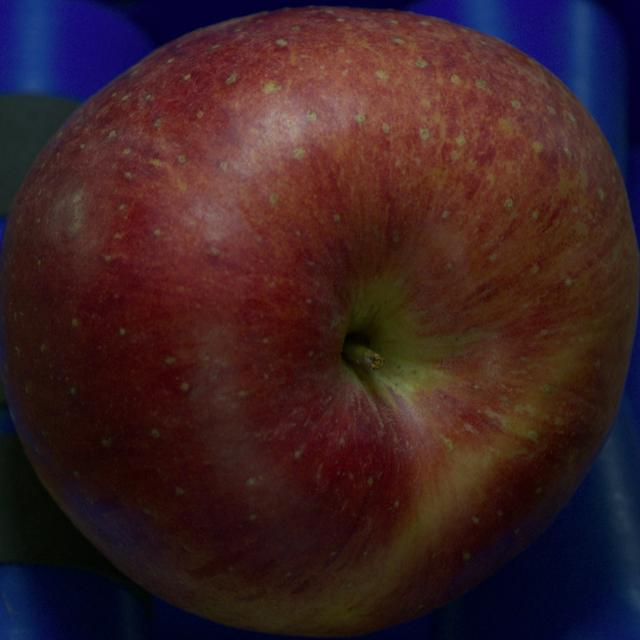apple: (0, 7, 639, 636)
